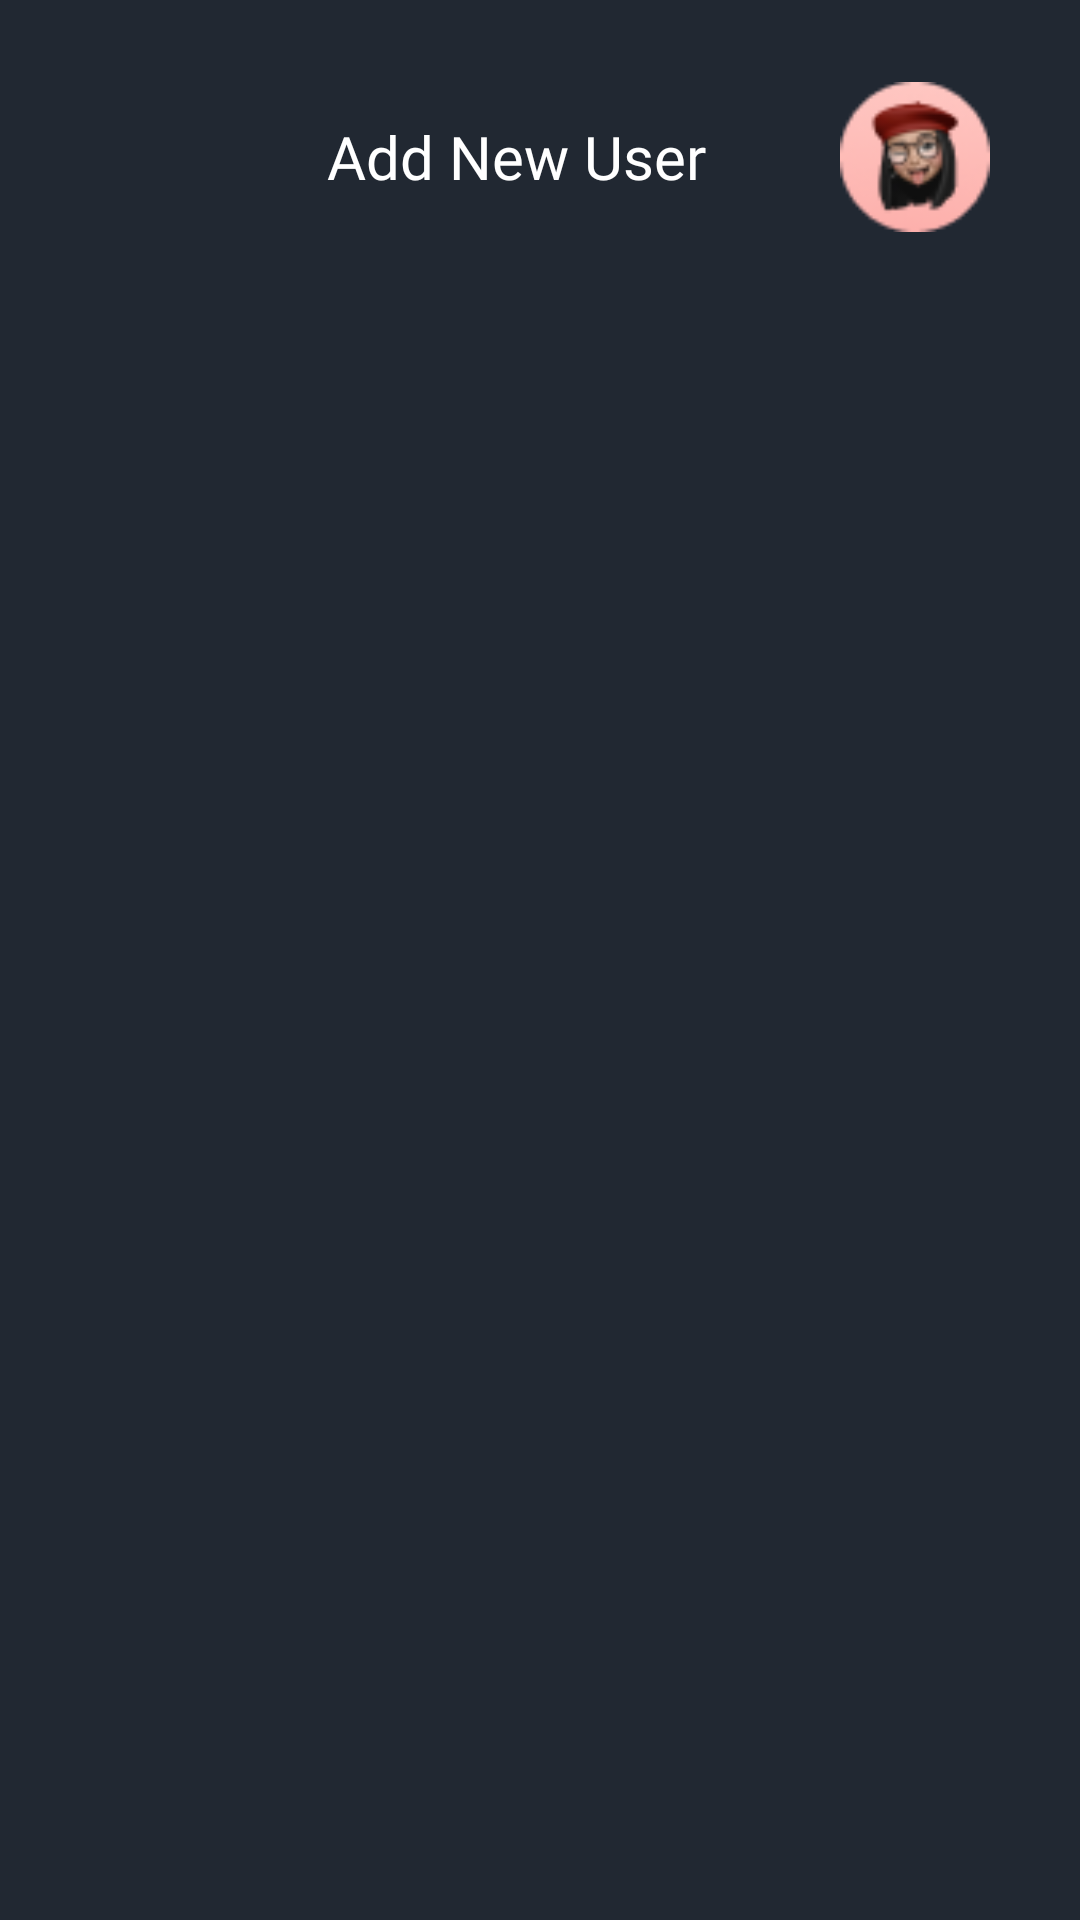

Icons on this 1080px×1920px Android screen, each with its box as (x1, y1, x2, y2):
person: (840, 82, 990, 232)
